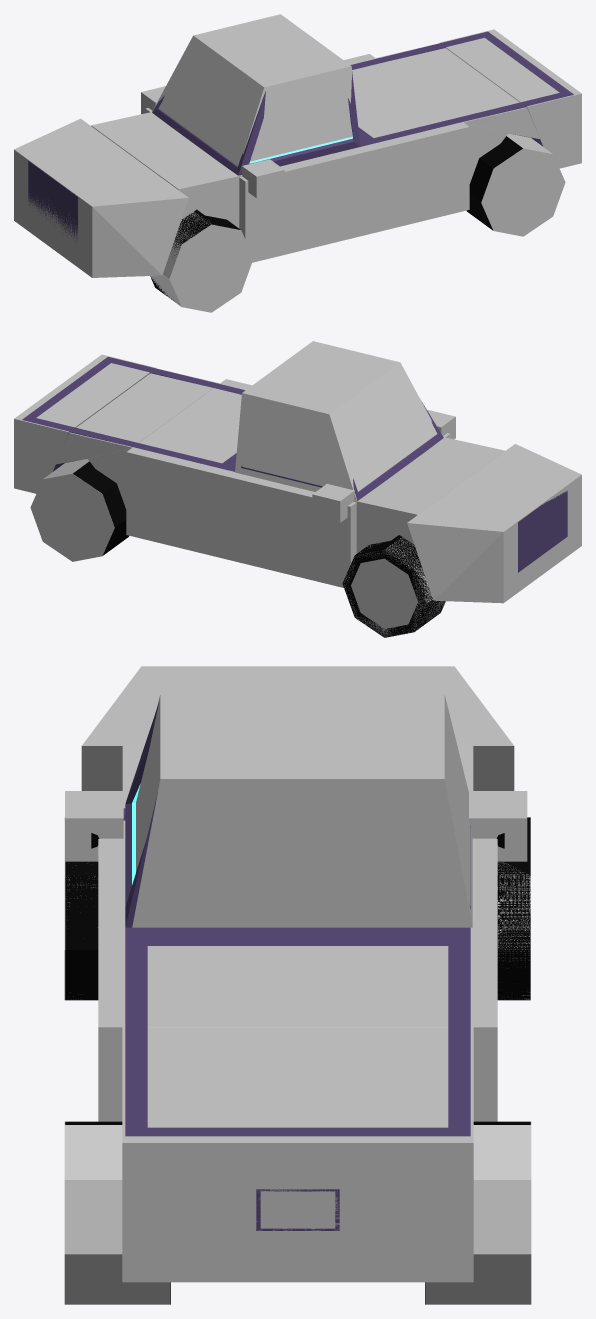
The model's file is SM_Car_07.fbx.
The picture shows the model from 3 angles, top to bottom: view 1: azimuth 30°, elevation 25°; view 2: azimuth 150°, elevation 25°; view 3: azimuth 270°, elevation 25°; orthographic projection. The views are drawn at different scales.
Parts seen in each view (by area): view 1: SM_Car_07_ConvexHulls, SM_Car_07; view 2: SM_Car_07_ConvexHulls, SM_Car_07; view 3: SM_Car_07_ConvexHulls, SM_Car_07.
Part boxes in pixels (box(x1,y1,x2,y2)): SM_Car_07_ConvexHulls: box(14, 14, 581, 312); SM_Car_07: box(28, 31, 573, 301); SM_Car_07_ConvexHulls: box(14, 341, 581, 637); SM_Car_07: box(22, 357, 567, 637); SM_Car_07_ConvexHulls: box(64, 666, 531, 1304); SM_Car_07: box(65, 703, 530, 1304).
Size of the model in its own units: 517 by 215 by 193.
Materials: 2 (1 with a texture image).
